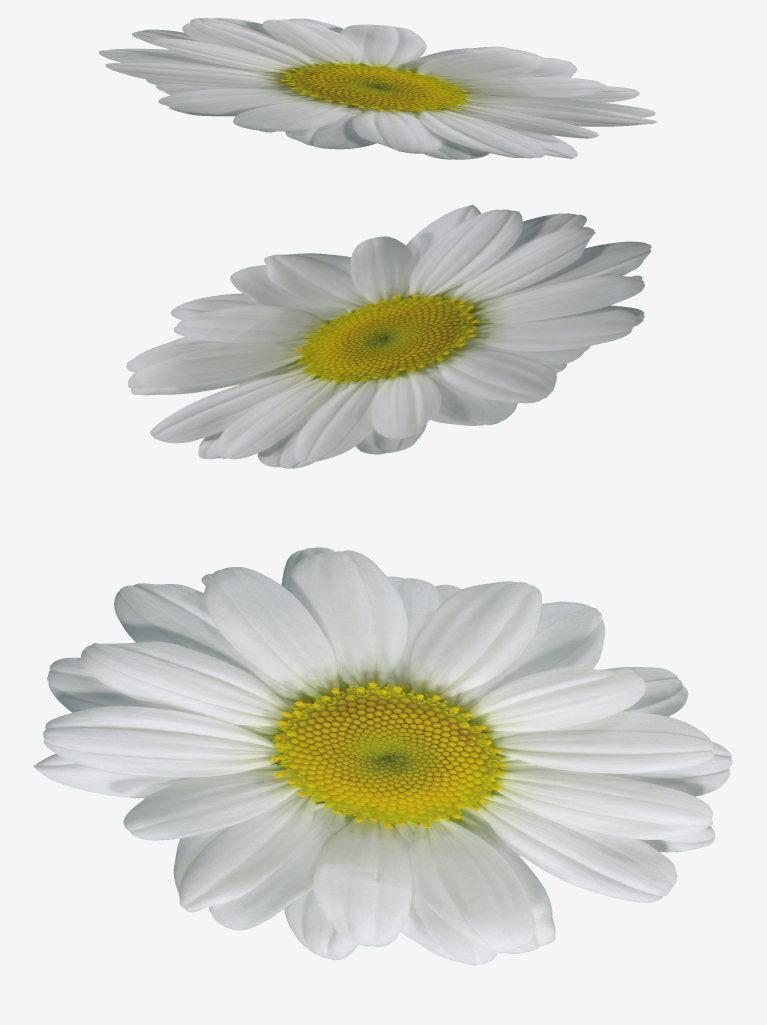
Rendered from grass_sunflower.fbx.
The picture shows the model from 3 angles, top to bottom: view 1: azimuth 30°, elevation 25°; view 2: azimuth 150°, elevation 25°; view 3: azimuth 270°, elevation 25°; orthographic projection. The views are drawn at different scales.
Visible parts, largest first — view 1: Plane009; view 2: Plane009; view 3: Plane009.
Boxes of the visible parts, x1=… form: Plane009: x1=98, y1=18, x2=656, y2=159; Plane009: x1=126, y1=204, x2=651, y2=468; Plane009: x1=33, y1=547, x2=732, y2=965.
Bounding box in the file's own units: 3.35 × 3.46 × 1.02.
Materials: 1 (1 with a texture image).
